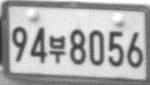0: (88, 29, 105, 65)
4: (29, 26, 47, 63)
5: (108, 31, 123, 66)
6: (127, 31, 143, 68)
8: (69, 28, 87, 65)
9: (11, 25, 28, 63)
부: (48, 34, 67, 63)
